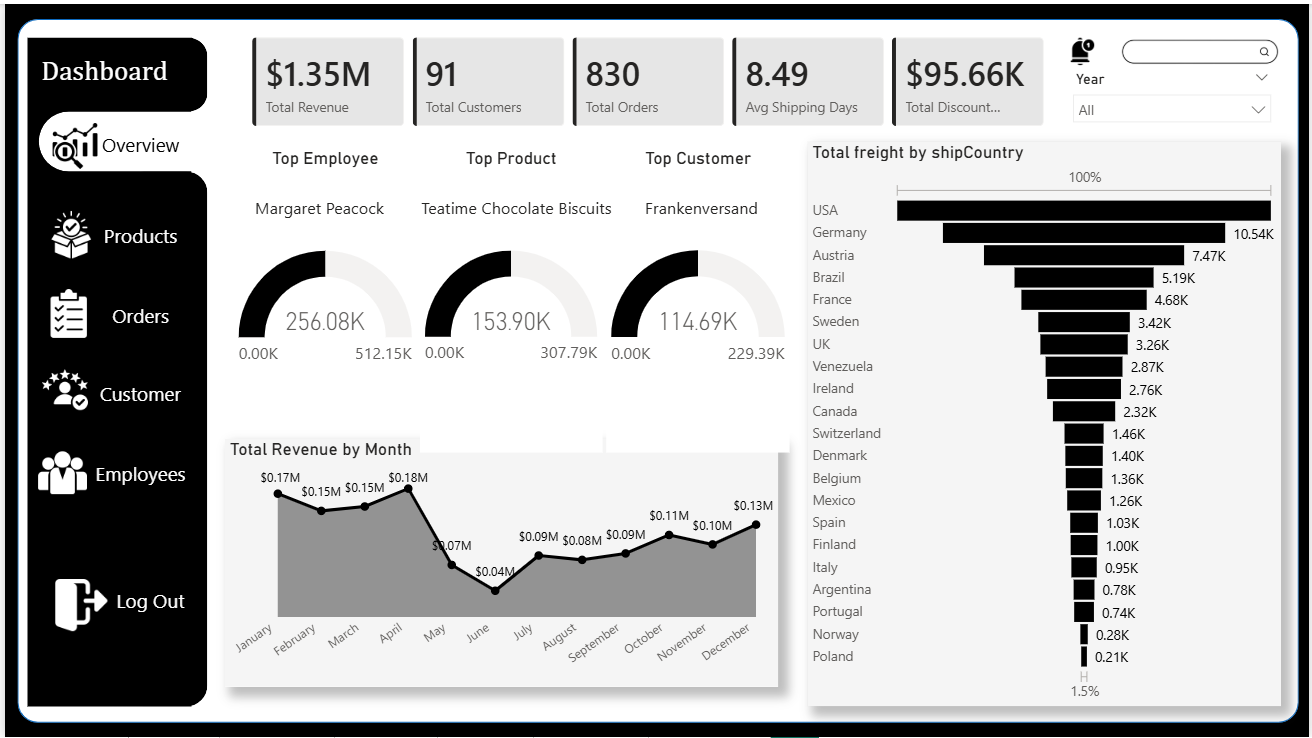

The dashboard page shown, as its layout file describes it:
{"tool":"powerbi","page":{"name":"Overview","canvas":[1280,720],"ordinal":1},"visuals":[{"type":"shape","box":[12.3,14.7,1257.7,690.8],"z":0},{"type":"shape","box":[22.1,33.1,160.7,656.4],"z":1000},{"type":"shape","box":[115.3,33.1,83.4,72.4],"z":2000},{"type":"shape","box":[33.1,105.5,300.6,58.9],"z":3000},{"type":"shape","box":[115.3,164.4,83.4,525.2],"z":4000},{"type":"image","box":[1066.3,0,213.5,93.3],"z":5000},{"type":"image","box":[1038,33.1,39.3,27],"z":6000},{"type":"cardVisual","fields":{"Data":["DaxM.Total Revenue","DaxM.Total Customers","DaxM.Total Orders","DaxM.Avg Shipping Days","DaxM.Total Discount Amount"]},"box":[225.8,16,812.3,121.5],"z":7000},{"type":"areaChart","fields":{"Category":["Orderdim.orderDate.Variation.Date Hierarchy.Year","Orderdim.orderDate.Variation.Date Hierarchy.Quarter","Orderdim.orderDate.Variation.Date Hierarchy.Month","Orderdim.orderDate.Variation.Date Hierarchy.Day"],"Y":["DaxM.Total Revenue"]},"box":[216,427,543.6,242.9],"z":8000},{"type":"funnel","fields":{"Y":["Sum(Orderdim.freight_2)"],"Category":["Orderdim.shipCountry"]},"box":[787.7,135,465,554.6],"z":9000},{"type":"gauge","title":"Top Employee","fields":{"Y":["DaxE.Top Employee Sales"]},"box":[224.8,141.1,180,300],"z":10000},{"type":"gauge","title":"Top Customer","fields":{"Y":["DaxE.Top Customer Sales"]},"box":[589.7,141.4,180.4,299.4],"z":11000},{"type":"gauge","title":"Top Product","fields":{"Y":["DaxE.Top Product Sales"]},"box":[407.7,141.4,179.1,299.4],"z":12000},{"type":"textbox","box":[240.5,184.1,149.7,39.3],"z":13000},{"type":"textbox","box":[403.7,184.1,206.1,41.7],"z":14000},{"type":"textbox","box":[623.3,184.1,149.7,39.3],"z":15000},{"type":"actionButton","box":[83.4,115.3,99.4,44.2],"z":16000},{"type":"image","box":[34.4,115.3,68.7,47.9],"z":17000},{"type":"actionButton","box":[83.4,206.1,99.4,40.5],"z":18000},{"type":"actionButton","box":[83.4,284.3,99.4,40.5],"z":19000},{"type":"actionButton","box":[83.4,362.4,99.4,40.5],"z":20000},{"type":"actionButton","box":[83.4,440.5,99.4,40.5],"z":21000},{"type":"image","box":[31.3,202.5,68.7,47.9],"z":22000},{"type":"image","box":[28.2,279.8,68.7,47.9],"z":23000},{"type":"image","box":[25.2,354.6,68.7,47.9],"z":24000},{"type":"image","box":[22.1,433.1,68.7,47.9],"z":25000},{"type":"slicer","fields":{"Values":["Orderdim.orderDate.Variation.Date Hierarchy.Year"]},"box":[1038,60.1,214.7,57.7],"z":26000},{"type":"textbox","box":[30.7,46.6,152.1,46.6],"z":27000},{"type":"actionButton","box":[93.3,564.4,99.4,40.5],"z":28000},{"type":"image","box":[42.9,564.4,63.8,51.5],"z":29000}]}

Visuals, with their boxes in screenshot pixels (x1, y1, x2, y2), scaled from the page's 1280x720 canvas onto the 1312x738 screenshot:
shape: Rect(13, 15, 1302, 723)
shape: Rect(23, 34, 187, 707)
shape: Rect(118, 34, 204, 108)
shape: Rect(34, 108, 342, 169)
shape: Rect(118, 169, 204, 707)
image: Rect(1093, 0, 1311, 96)
image: Rect(1064, 34, 1104, 62)
cardVisual - DaxM.Total Revenue x DaxM.Total Customers: Rect(231, 16, 1064, 141)
areaChart - Orderdim.orderDate.Variation.Date Hierarchy.Year x Orderdim.orderDate.Variation.Date Hierarchy.Quarter: Rect(221, 438, 779, 687)
funnel - Sum(Orderdim.freight_2) x Orderdim.shipCountry: Rect(807, 138, 1284, 707)
"Top Employee" gauge: Rect(230, 145, 415, 452)
"Top Customer" gauge: Rect(604, 145, 789, 452)
"Top Product" gauge: Rect(418, 145, 601, 452)
textbox: Rect(247, 189, 400, 229)
textbox: Rect(414, 189, 625, 231)
textbox: Rect(639, 189, 792, 229)
actionButton: Rect(85, 118, 187, 163)
image: Rect(35, 118, 106, 167)
actionButton: Rect(85, 211, 187, 253)
actionButton: Rect(85, 291, 187, 333)
actionButton: Rect(85, 371, 187, 413)
actionButton: Rect(85, 452, 187, 493)
image: Rect(32, 208, 102, 257)
image: Rect(29, 287, 99, 336)
image: Rect(26, 363, 96, 413)
image: Rect(23, 444, 93, 493)
slicer - Orderdim.orderDate.Variation.Date Hierarchy.Year: Rect(1064, 62, 1284, 121)
textbox: Rect(31, 48, 187, 96)
actionButton: Rect(96, 579, 198, 620)
image: Rect(44, 579, 109, 631)
